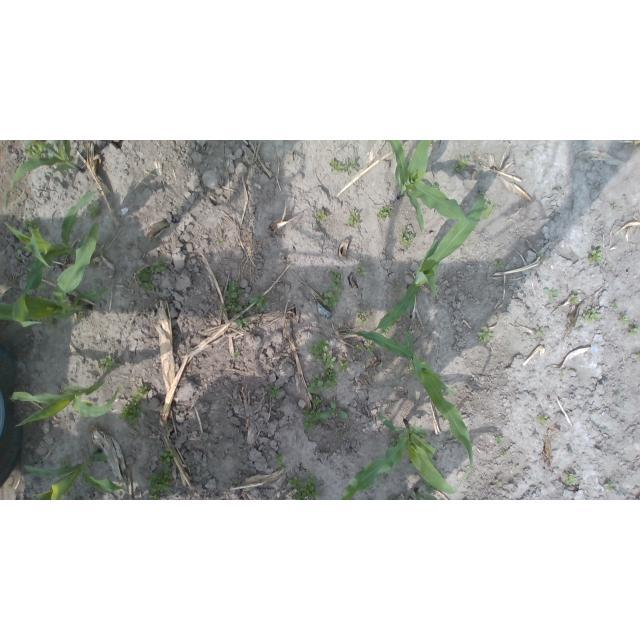Maize: (345, 330, 474, 481), (372, 192, 484, 336), (5, 189, 100, 327), (341, 412, 472, 501), (1, 219, 106, 323), (385, 140, 495, 233), (25, 448, 132, 501), (7, 381, 119, 426), (10, 140, 84, 189), (413, 487, 438, 500)
Weeds: (308, 336, 337, 372), (288, 476, 321, 500), (148, 468, 172, 500), (223, 280, 246, 313), (307, 370, 337, 394), (303, 409, 330, 432), (120, 399, 142, 425), (246, 293, 269, 312), (96, 354, 116, 374), (24, 140, 46, 158), (159, 446, 177, 467), (328, 271, 345, 293), (319, 292, 341, 309), (401, 228, 416, 250), (477, 327, 496, 343), (583, 308, 601, 324), (452, 156, 469, 172), (135, 267, 151, 283), (544, 288, 559, 304), (376, 206, 393, 220), (87, 204, 102, 219), (235, 313, 249, 329), (344, 159, 359, 173), (346, 212, 360, 227), (152, 259, 167, 273), (134, 386, 147, 402), (588, 250, 602, 263), (56, 459, 72, 470), (329, 159, 343, 171), (337, 360, 351, 372), (138, 282, 154, 292), (564, 474, 577, 486), (364, 340, 376, 353), (22, 220, 38, 229), (357, 310, 367, 324), (316, 210, 328, 221), (36, 285, 48, 296), (269, 386, 280, 398), (329, 402, 337, 418), (536, 414, 548, 424), (630, 323, 640, 335), (425, 484, 438, 493), (356, 265, 365, 278), (569, 295, 579, 305), (536, 326, 545, 337), (620, 315, 629, 325), (430, 182, 440, 191), (73, 316, 83, 325), (493, 260, 504, 268), (312, 397, 321, 406), (274, 454, 282, 464), (338, 411, 348, 419), (391, 438, 399, 447), (495, 434, 504, 442), (354, 346, 362, 355), (495, 479, 503, 487), (405, 365, 413, 373), (384, 326, 392, 334), (430, 458, 437, 467), (395, 284, 402, 293), (611, 302, 618, 309), (408, 462, 416, 468), (604, 484, 612, 490), (217, 237, 223, 244), (610, 204, 616, 210), (419, 360, 425, 365), (233, 352, 239, 357), (474, 275, 479, 281), (503, 452, 509, 457), (473, 150, 478, 156), (280, 464, 285, 469), (540, 256, 545, 261), (276, 404, 281, 409), (340, 432, 345, 436), (616, 395, 621, 399), (22, 264, 26, 268)
